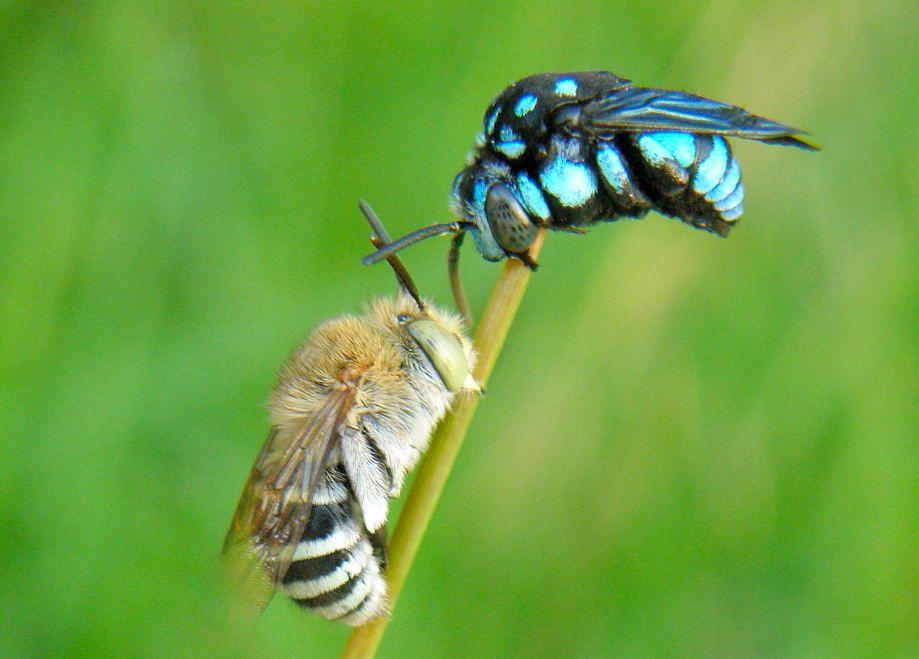Thyreus: (216, 189, 483, 642), (357, 45, 834, 276)
